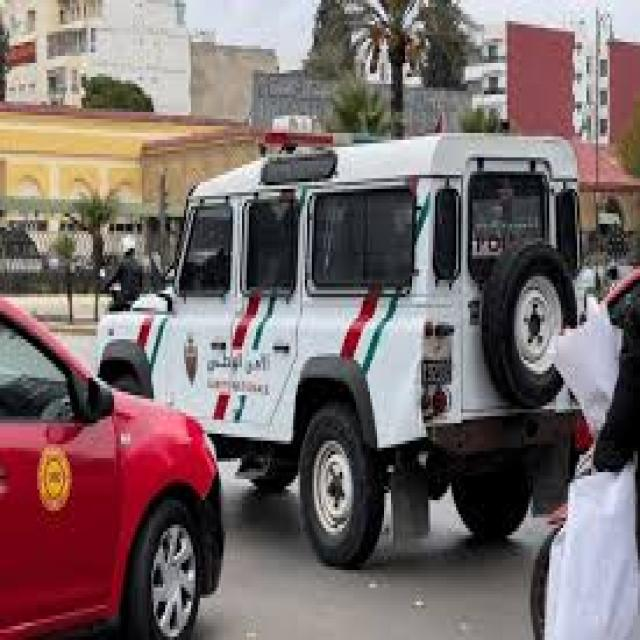Police car: (92, 116, 582, 575)
